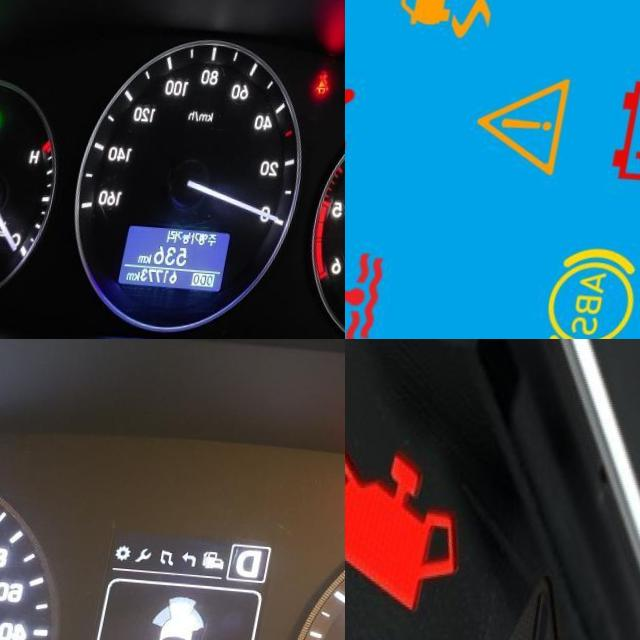High Engine Coolant Temperature: (345, 227, 426, 339)
